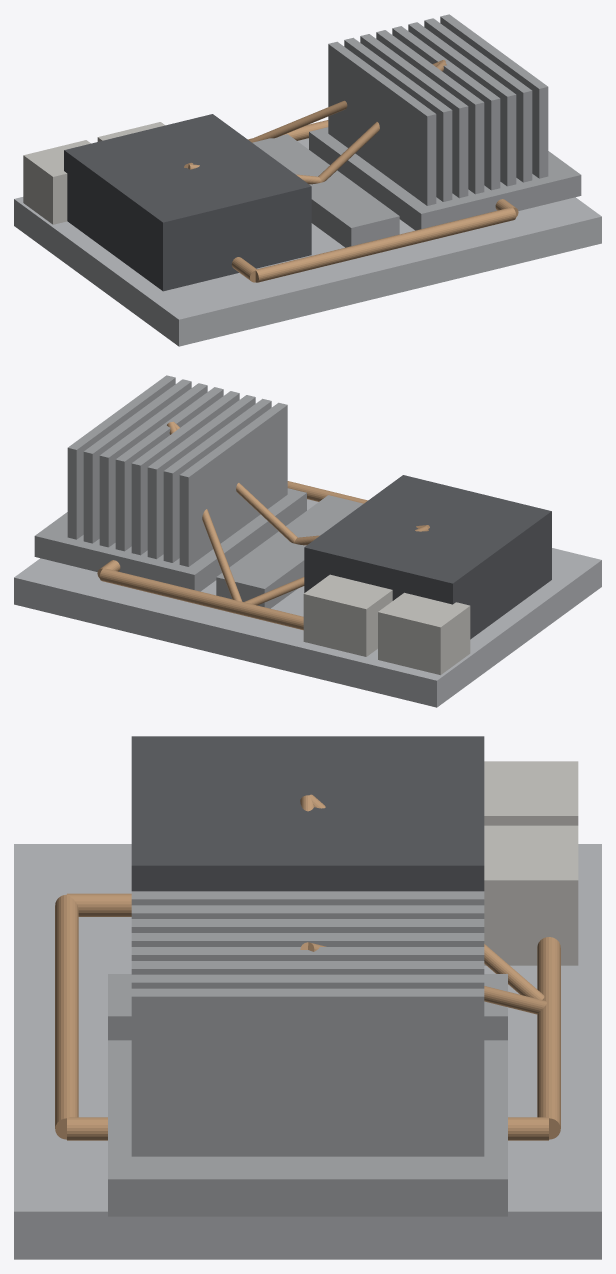
3 views of the same model, one above another, from view 1: azimuth 30°, elevation 25°; view 2: azimuth 150°, elevation 25°; view 3: azimuth 270°, elevation 25° (orthographic). The views are drawn at different scales.
Parts seen in each view (by area): view 1: heat_sink, heat_source, assembly_base, cold_plate, coolant_loop, module_01, link_coolant_loop__heat_sink, link_cold_plate__heat_sink; view 2: heat_sink, assembly_base, heat_source, module_01, module_02, cold_plate, coolant_loop, link_coolant_loop__heat_sink, link_cold_plate__heat_sink, link_coolant_loop__heat_source; view 3: heat_sink, assembly_base, heat_source, coolant_loop, module_02, module_01, cold_plate, link_coolant_loop__heat_source, link_coolant_loop__heat_sink.
Boxes of the visible parts, x1,y1,x2,y2 form: heat_sink: (309,14,581,230); heat_source: (64,114,311,291); assembly_base: (14,138,601,346); cold_plate: (252,134,399,247); coolant_loop: (231,120,518,282); module_01: (23,140,90,224); link_coolant_loop__heat_sink: (249,59,445,142); link_cold_plate__heat_sink: (318,61,446,182); heat_sink: (34,375,306,591); assembly_base: (14,499,601,707); heat_source: (304,475,551,639); module_01: (378,592,470,675); module_02: (303,574,392,656); cold_plate: (216,495,363,608); coolant_loop: (97,481,367,630); link_coolant_loop__heat_sink: (167,422,242,601); link_cold_plate__heat_sink: (173,421,297,543); link_coolant_loop__heat_source: (244,525,428,605); heat_sink: (108,891,507,1216); assembly_base: (14,844,601,1259); heat_source: (131,736,484,891); coolant_loop: (55,893,560,1140); module_02: (484,825,578,965); module_01: (484,761,578,825); cold_plate: (108,974,507,1040); link_coolant_loop__heat_source: (309,794,544,999); link_coolant_loop__heat_sink: (308,942,546,1014).
Bounding box in the file's own units: 7.5 × 2.36 × 5.
